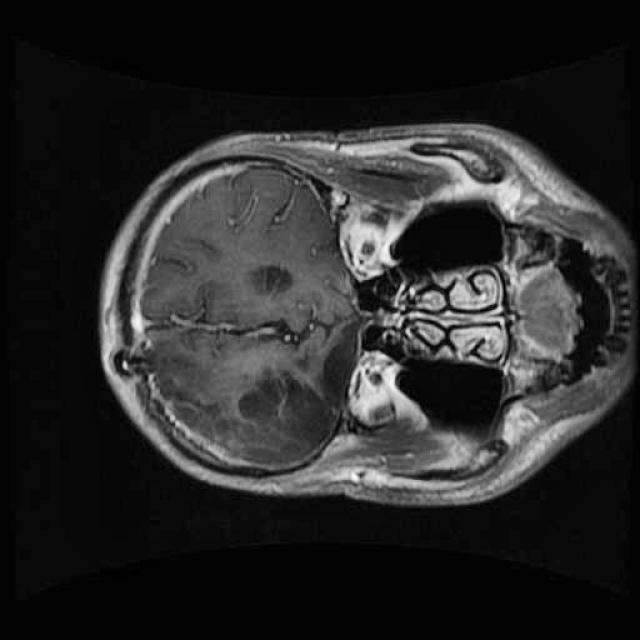Tumor: (238, 309, 364, 455)
